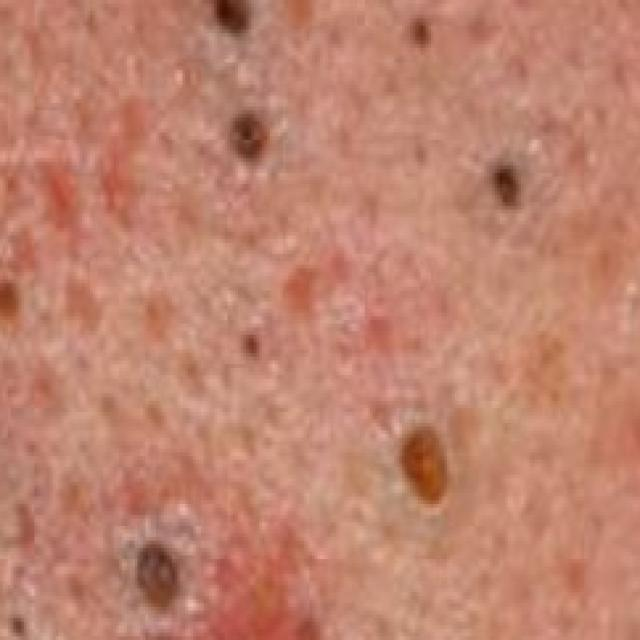blackhead: (407, 440, 442, 492), (139, 554, 173, 596), (232, 122, 260, 154), (218, 3, 242, 25), (496, 174, 514, 200), (10, 616, 24, 636), (243, 336, 257, 354), (414, 24, 426, 44)
